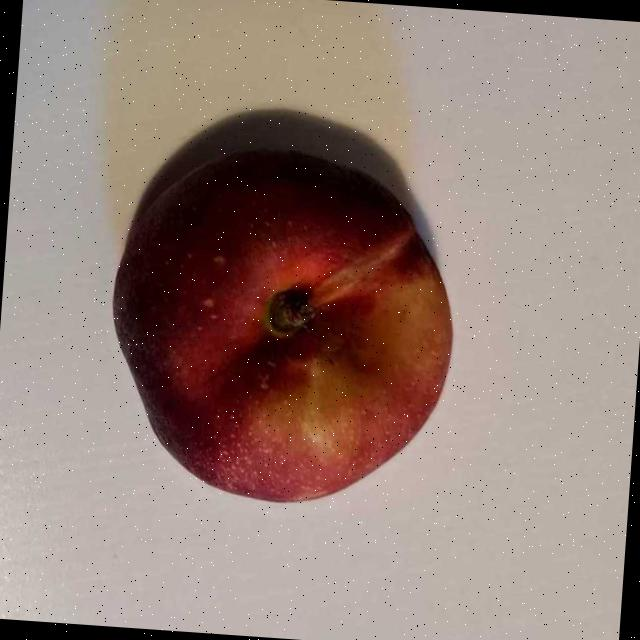peach: (122, 149, 446, 498)
